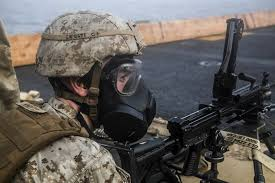gun: (88, 16, 273, 181)
